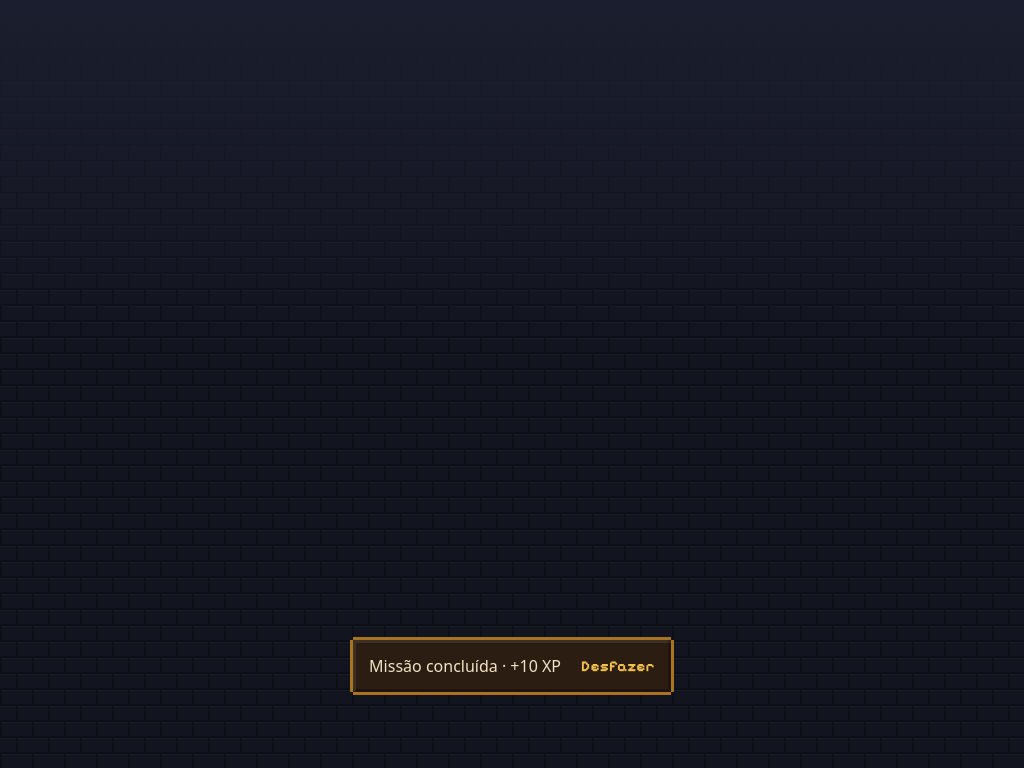
Test: Toast › a tap on the message closes it at once; a new toast shown by the action survives the action tap
Click the text "Missão concluída · +10 XP". click: (465, 666)
box: 369,655 -> 561,677
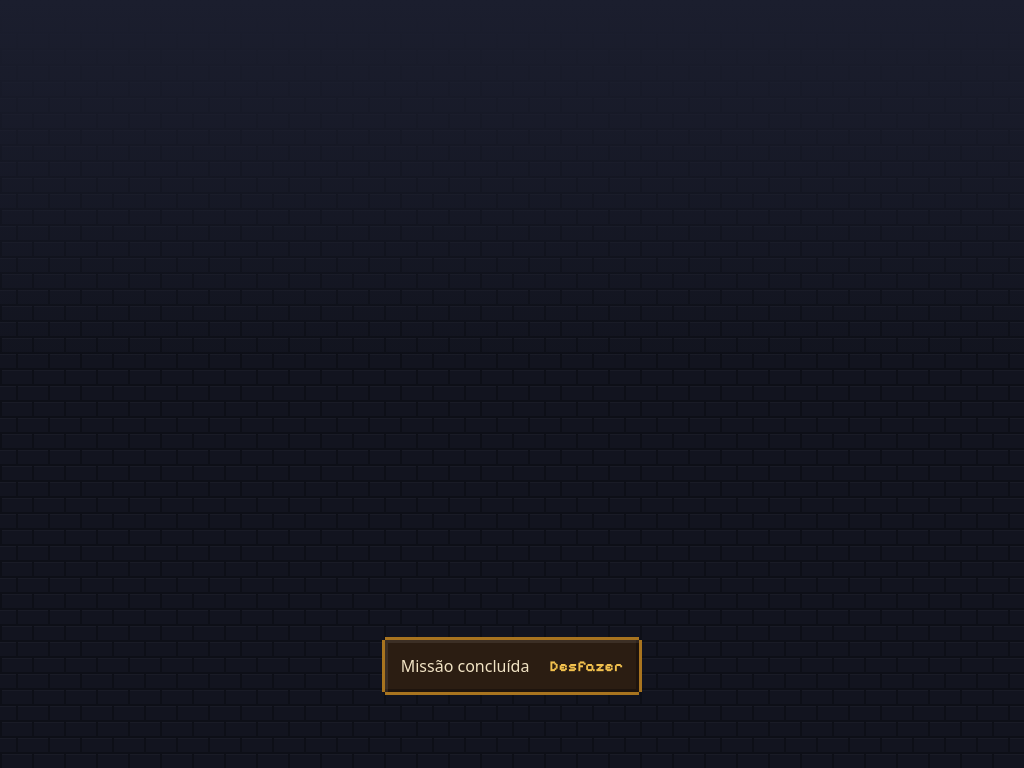
expect the text "Missão concluída · +10 XP" is gone: met
Click the button "Desfazer". click: (586, 666)
box: 537,644 -> 635,688
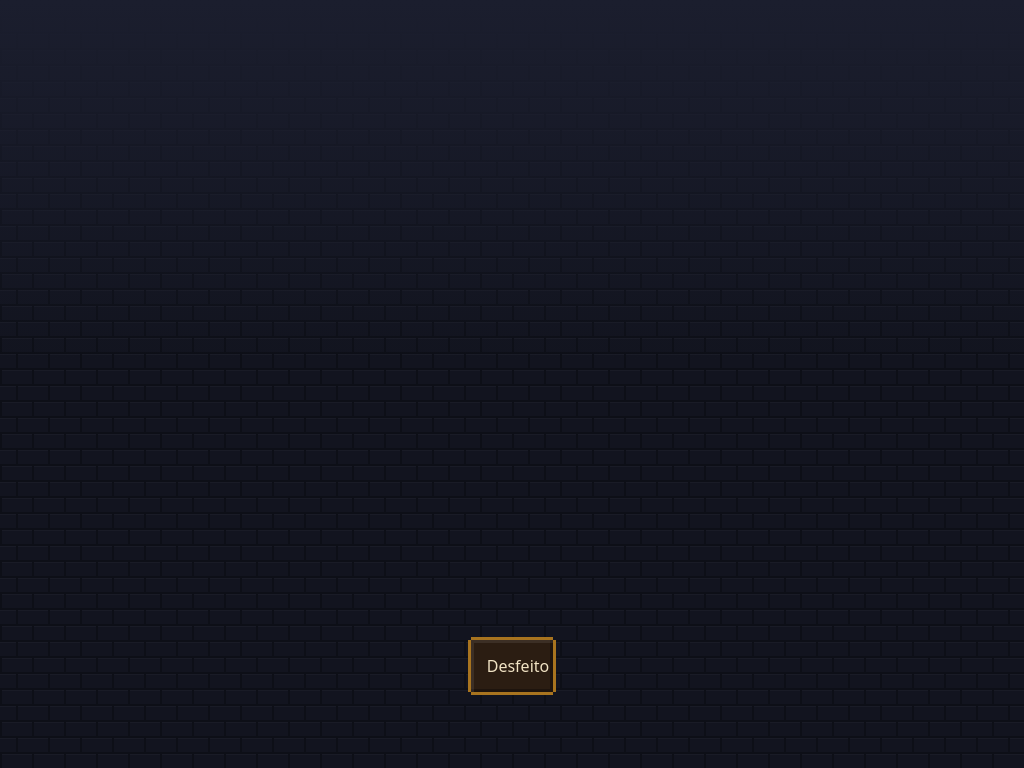
expect the text "Desfeito" is shown: met, box 487,655 -> 549,677
